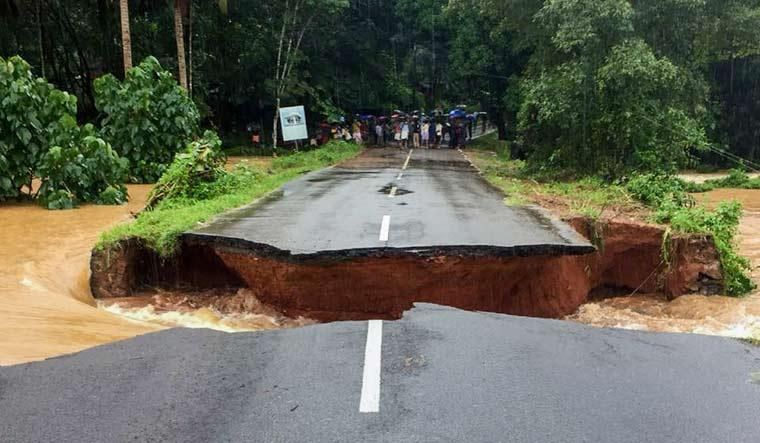crackedroads: (179, 237, 603, 336)
